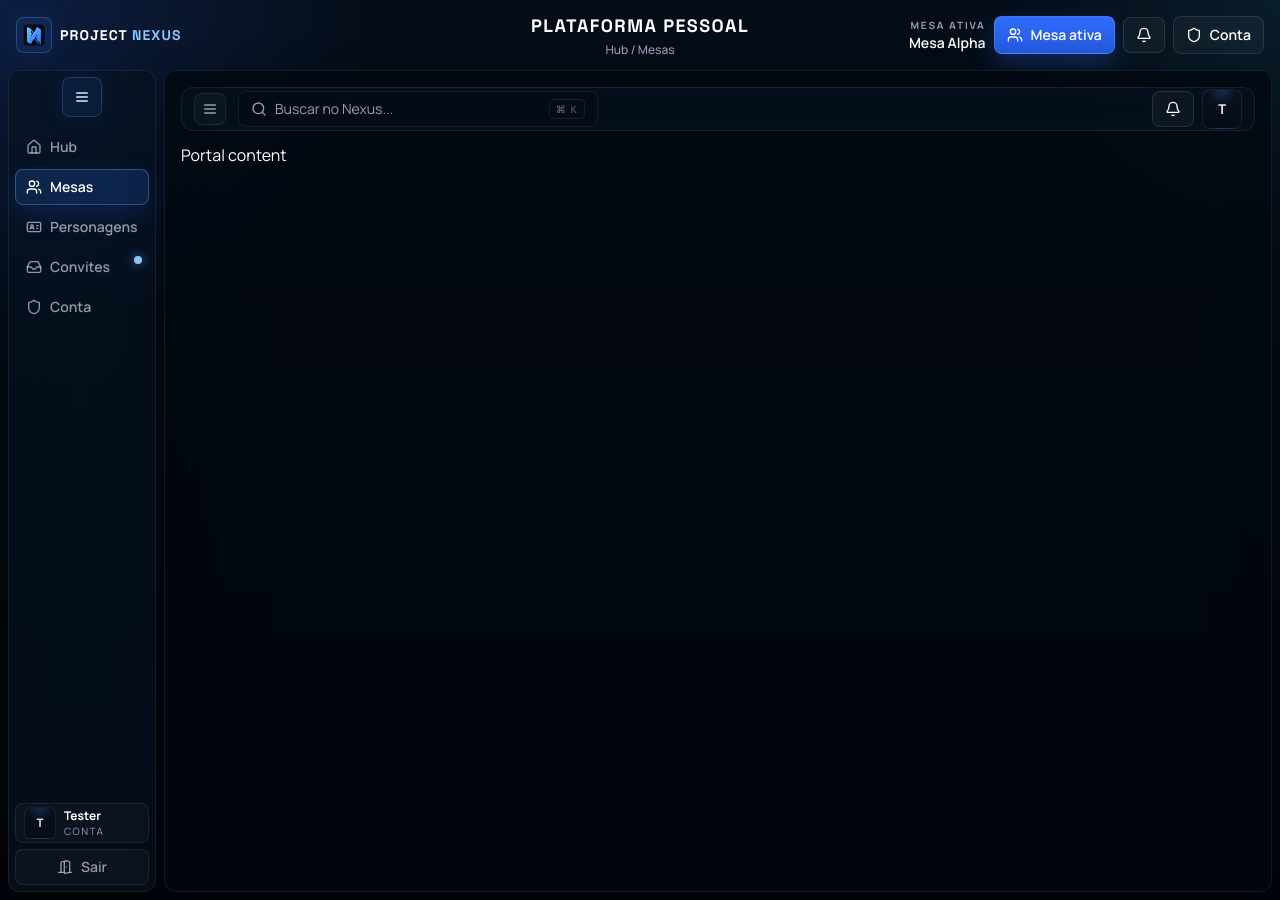
Test: NexusPlatformLayout › navigates between platform routes through the persistent shell
What coordinates should you click on to do the following:
click the link "Conta"
I would click on:
 (59, 306)
Its box is x1=26 y1=297 x2=91 y2=316.
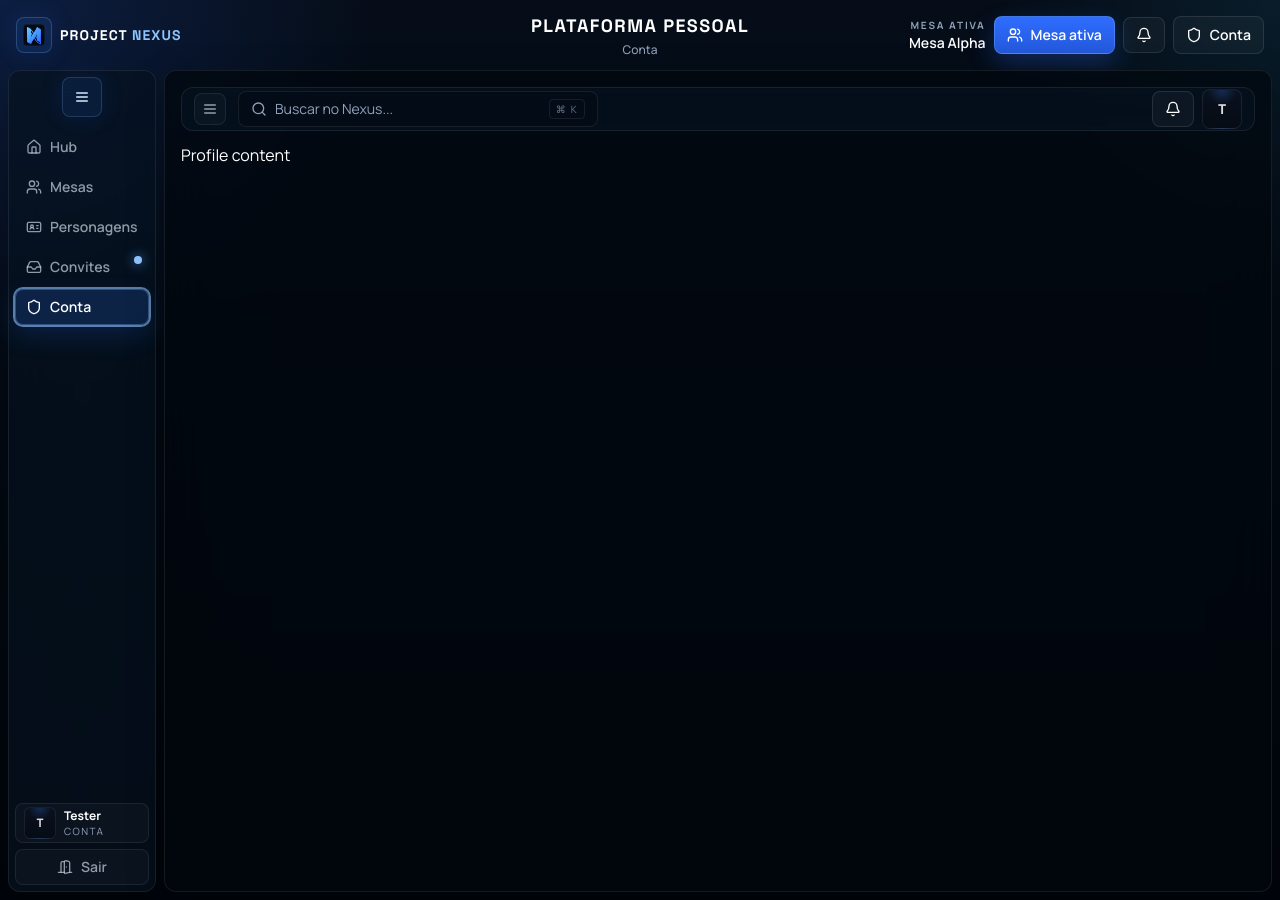
Now the text "Profile content" is shown, box x1=181 y1=144 x2=290 y2=166
Now the text "Conta" below "PLATAFORMA PESSOAL" is shown, box x1=623 y1=41 x2=657 y2=58
